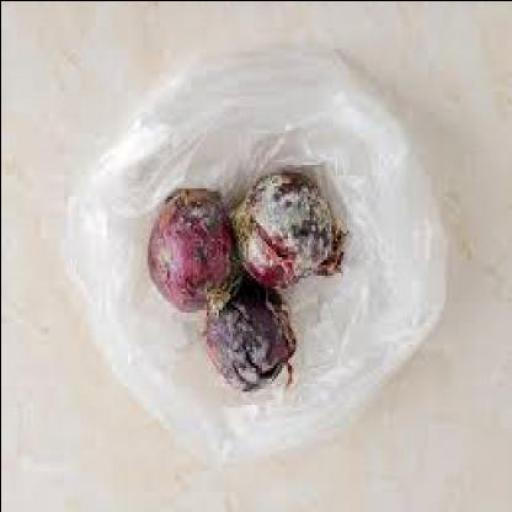biodegradable: (229, 175, 342, 293), (144, 190, 240, 317), (200, 282, 295, 394)
plastic: (58, 53, 442, 461)
